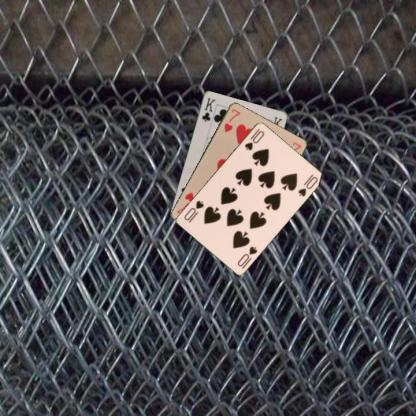10s: (234, 243, 259, 268), (242, 128, 265, 151)
7h: (221, 106, 242, 134)
Kc: (199, 95, 217, 123)
